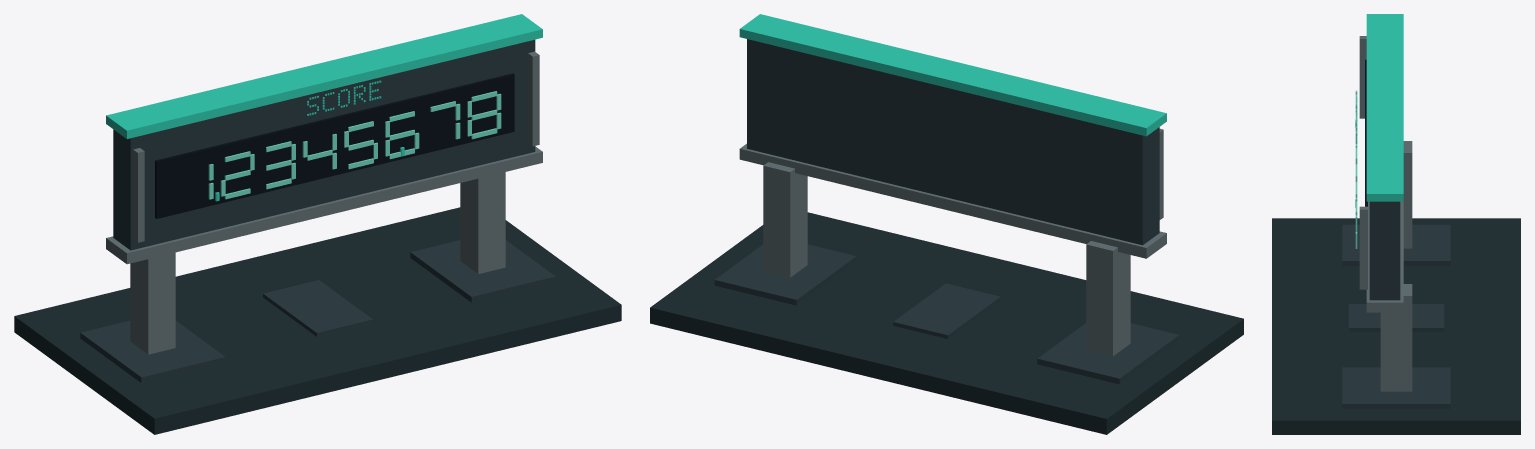
Rendered from beacon_scoreboard_d0_lod2.meshopt.glb.
3 views of the same model, side by side, from view 1: azimuth 30°, elevation 25°; view 2: azimuth 150°, elevation 25°; view 3: azimuth 270°, elevation 25° (orthographic). The views are drawn at different scales.
Visible parts, largest first — view 1: SCOREBOARD_DISTANCE_GEOMETRY; view 2: SCOREBOARD_DISTANCE_GEOMETRY; view 3: SCOREBOARD_DISTANCE_GEOMETRY.
Boxes of the visible parts, bbox=[...] form: SCOREBOARD_DISTANCE_GEOMETRY: bbox=[14, 14, 621, 434]; SCOREBOARD_DISTANCE_GEOMETRY: bbox=[650, 14, 1243, 434]; SCOREBOARD_DISTANCE_GEOMETRY: bbox=[1272, 14, 1520, 434].
Bounding box in the file's own units: 7.5 × 3.97 × 3.9.
